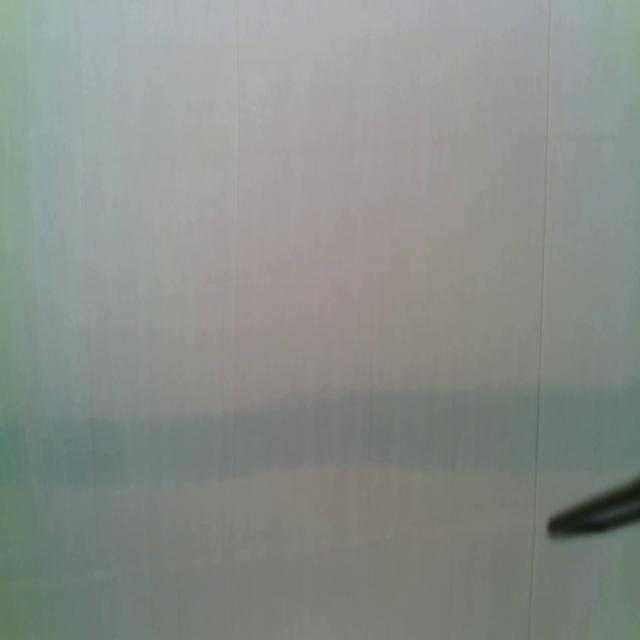color bleeding: (1, 381, 637, 480)
